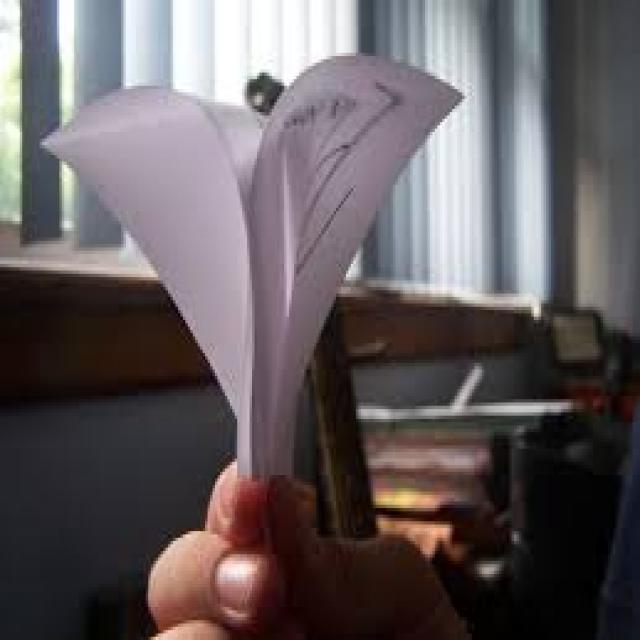Paper -Biodegradable-: (45, 51, 461, 478)
